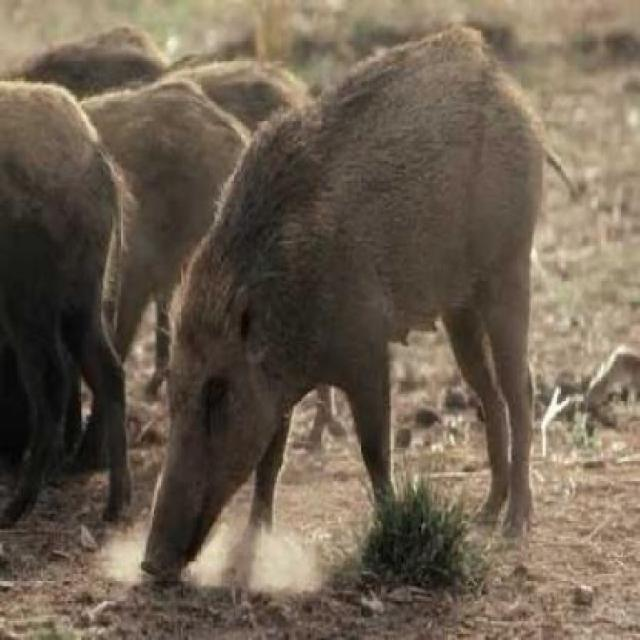Boar: (97, 40, 625, 585)
